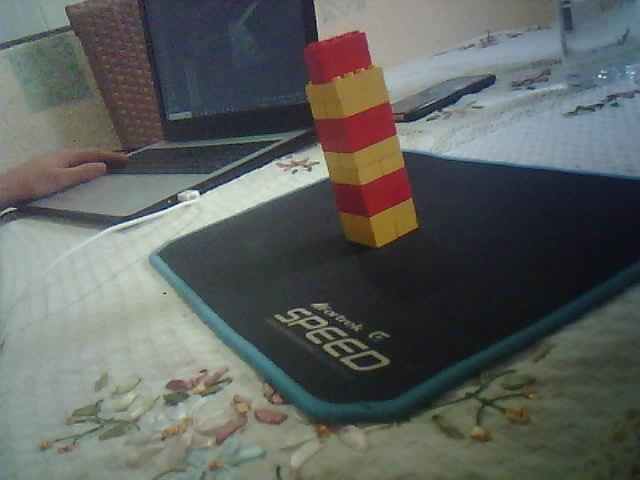lego: (302, 29, 420, 248)
